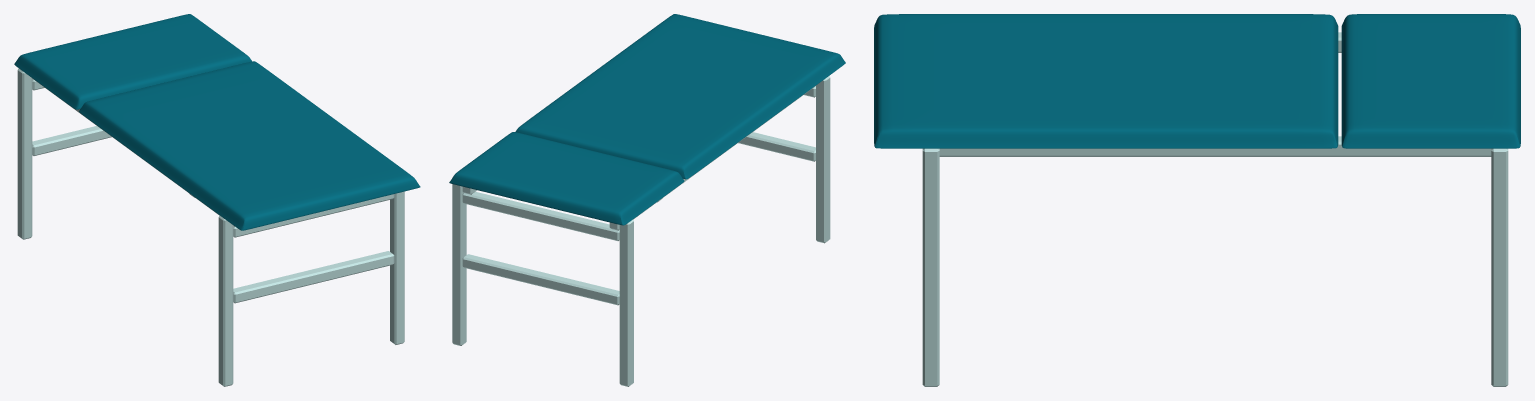
The model's file is kushetka.fbx.
3 views of the same model, side by side, from view 1: azimuth 30°, elevation 25°; view 2: azimuth 150°, elevation 25°; view 3: azimuth 270°, elevation 25° (orthographic). The views are drawn at different scales.
Visible parts, largest first — view 1: Cube; view 2: Cube; view 3: Cube.
Part boxes in pixels (box(x1,y1,x2,y2)): Cube: box(14, 14, 420, 386); Cube: box(449, 14, 845, 386); Cube: box(874, 14, 1520, 386).
Size of the model in its own units: 100 by 94.69 by 218.
2 materials, 2 textured.
